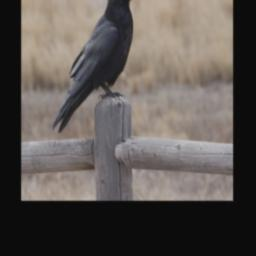Crow: (50, 0, 141, 136)
